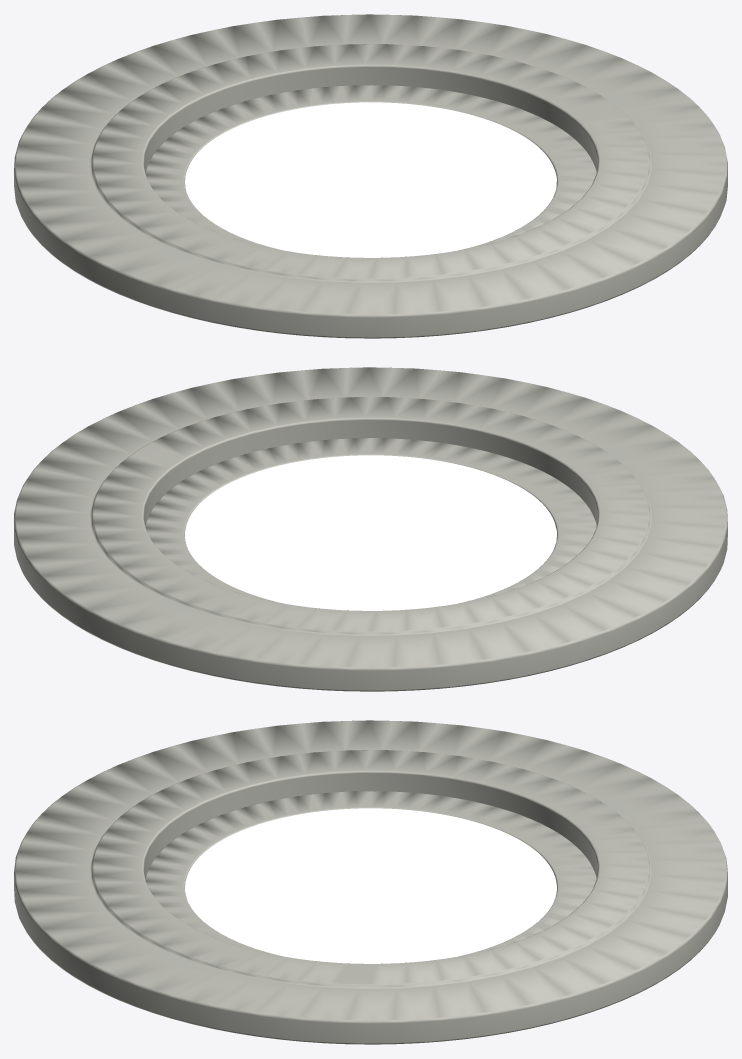
Rendered from fixture_ceilinglamp_b01.glb.
The picture shows the model from 3 angles, top to bottom: view 1: azimuth 30°, elevation 25°; view 2: azimuth 150°, elevation 25°; view 3: azimuth 270°, elevation 25°; orthographic projection.
Parts seen in each view (by area): view 1: sm_fixture_ceilinglamp_b01_01; view 2: sm_fixture_ceilinglamp_b01_01; view 3: sm_fixture_ceilinglamp_b01_01.
Part boxes in pixels (left/top/right/bottom): sm_fixture_ceilinglamp_b01_01: left=14, top=14, right=727, bottom=338; sm_fixture_ceilinglamp_b01_01: left=14, top=367, right=727, bottom=691; sm_fixture_ceilinglamp_b01_01: left=14, top=720, right=727, bottom=1044.
Bounding box in the file's own units: 0.1986 × 0.00852 × 0.1986.
Materials: 2 (2 with a texture image).
